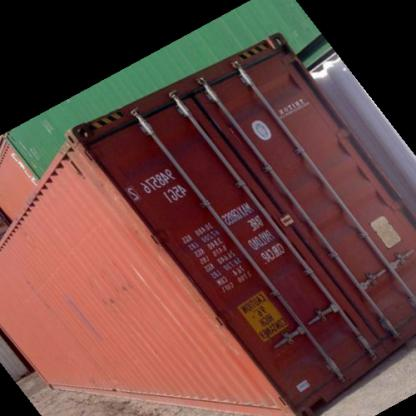Damage: (93, 272, 134, 309), (66, 298, 93, 346), (25, 276, 51, 310)
